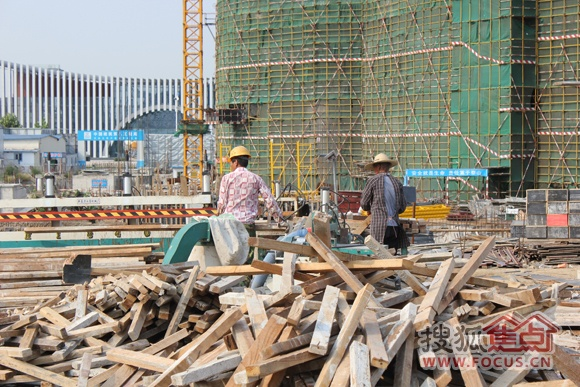white: (371, 149, 392, 177)
yellow: (228, 145, 252, 173)
